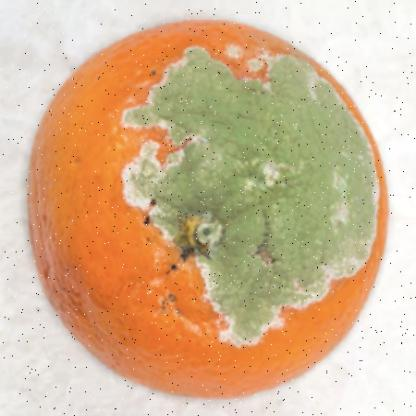rotten: (30, 17, 390, 397)
